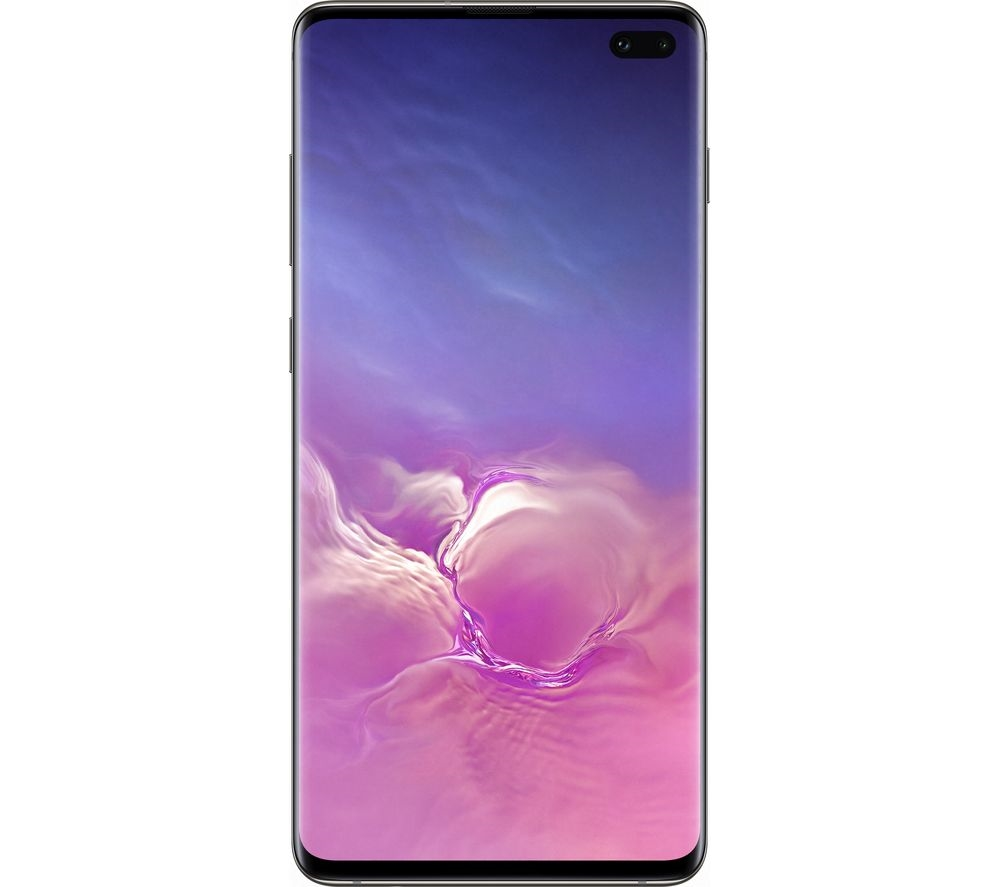Handphone: (283, 1, 716, 887)
